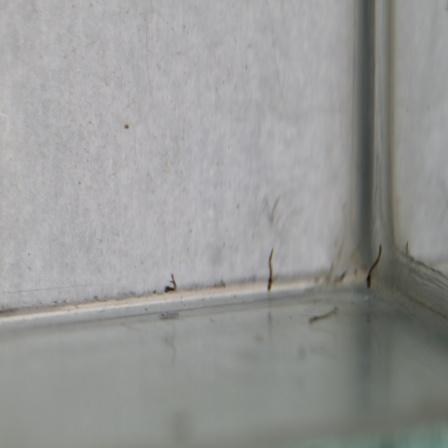Jentik-Nyamuk: (365, 240, 383, 293), (163, 270, 180, 298)
